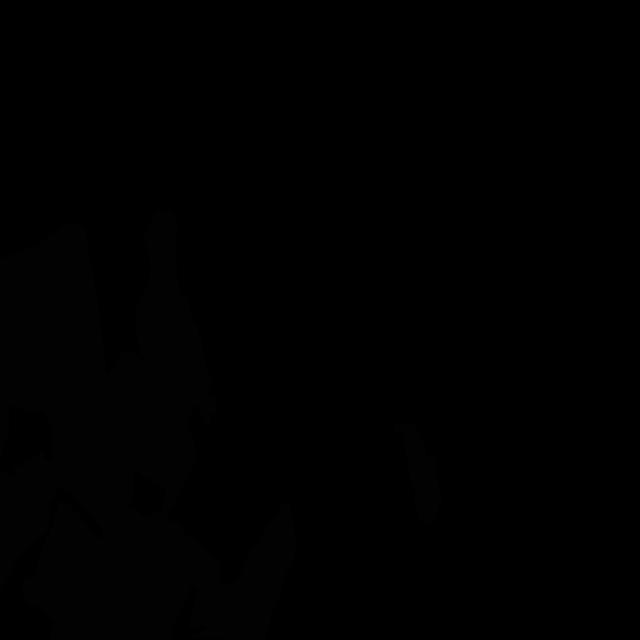cardboard: (49, 503, 296, 640), (22, 401, 165, 625), (0, 223, 108, 503), (90, 350, 197, 527), (134, 208, 216, 429), (0, 472, 50, 590), (393, 423, 442, 525)
